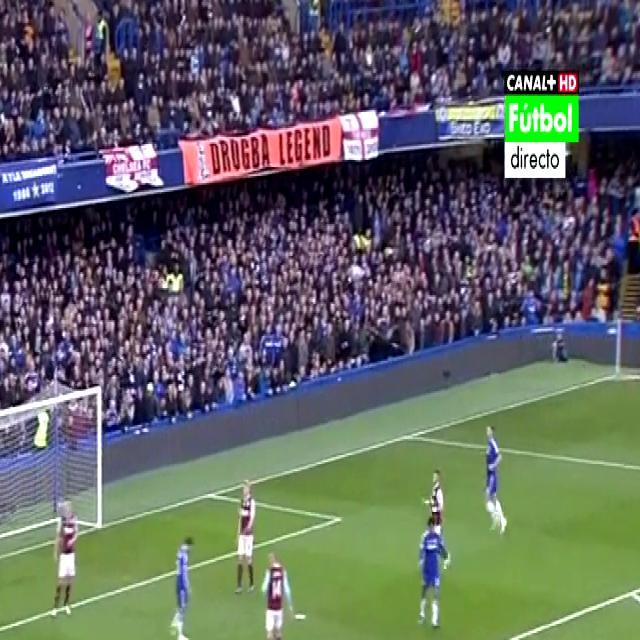soccer-player: (479, 403, 512, 535), (230, 468, 261, 599), (49, 496, 81, 622), (419, 448, 452, 565), (416, 510, 446, 634), (257, 551, 296, 640), (166, 530, 196, 640)
